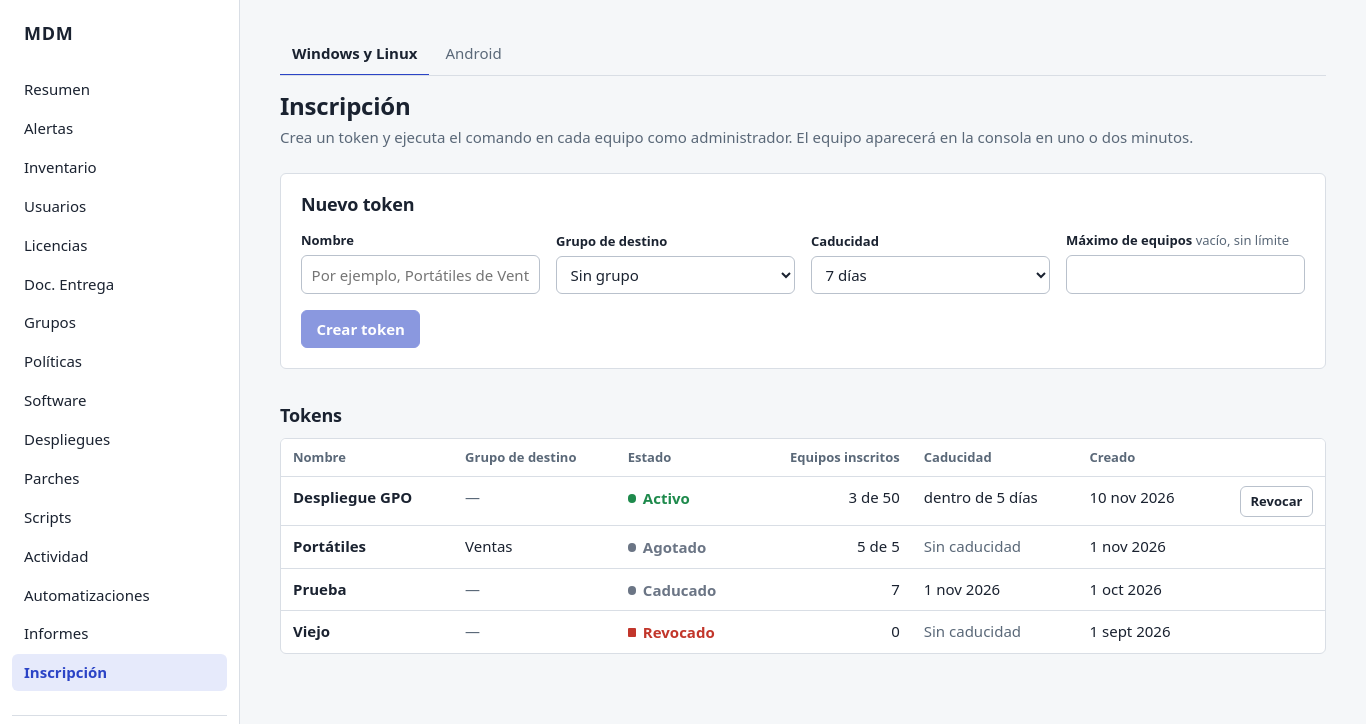
it: Inscripción › crear un token envía nombre, grupo, caducidad y usos
The image size is (1366, 724).
In the field labelled "Nombre": (420, 275) [301,256,540,294], type "Oficina Girona"
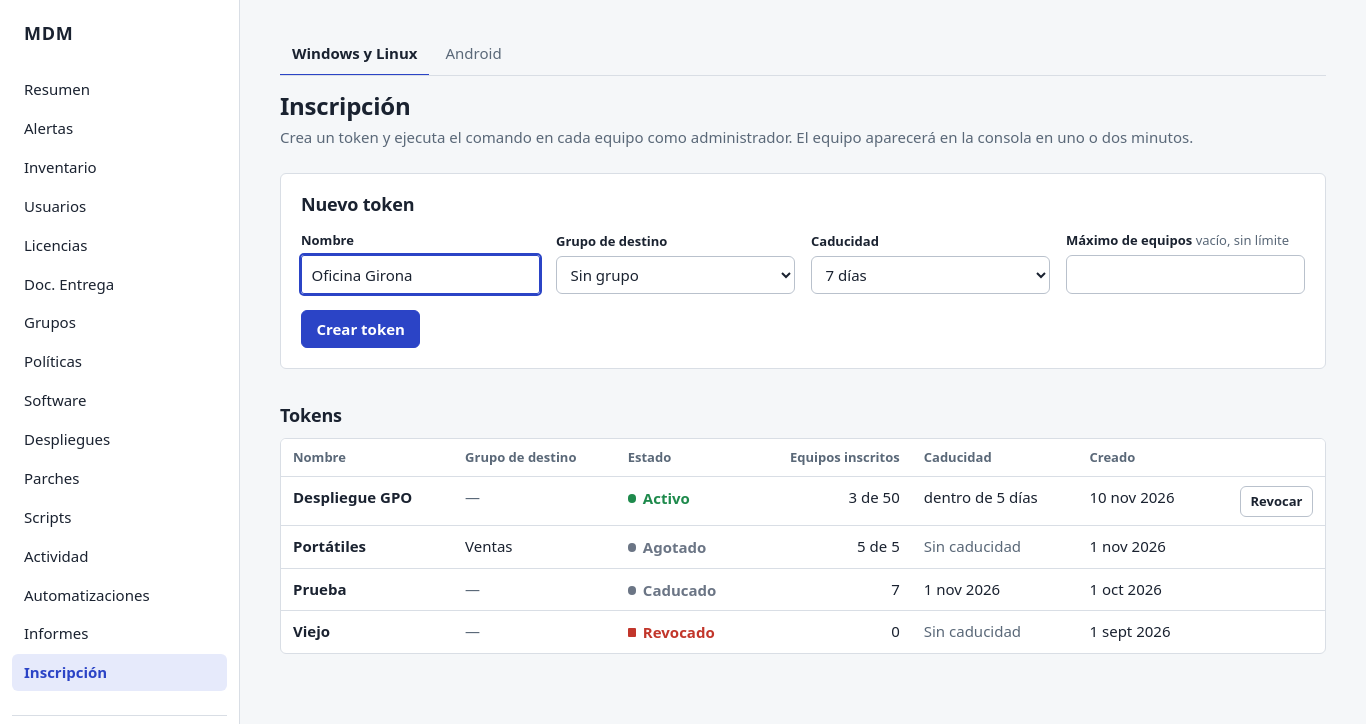
Select "Ventas" in the dropdown labelled "Grupo de destino": (676, 275) [556,256,795,294]
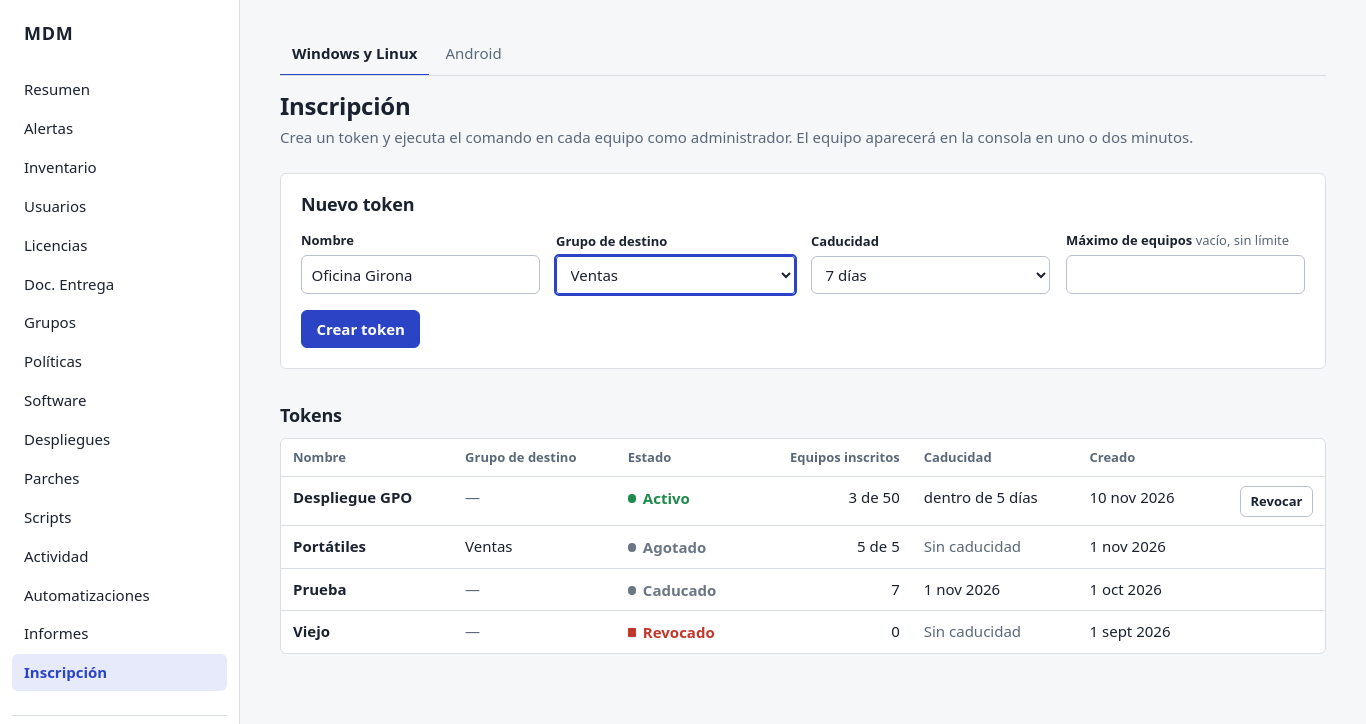
Select "30 días" in the dropdown labelled "Caducidad": (930, 275) [811,256,1050,294]
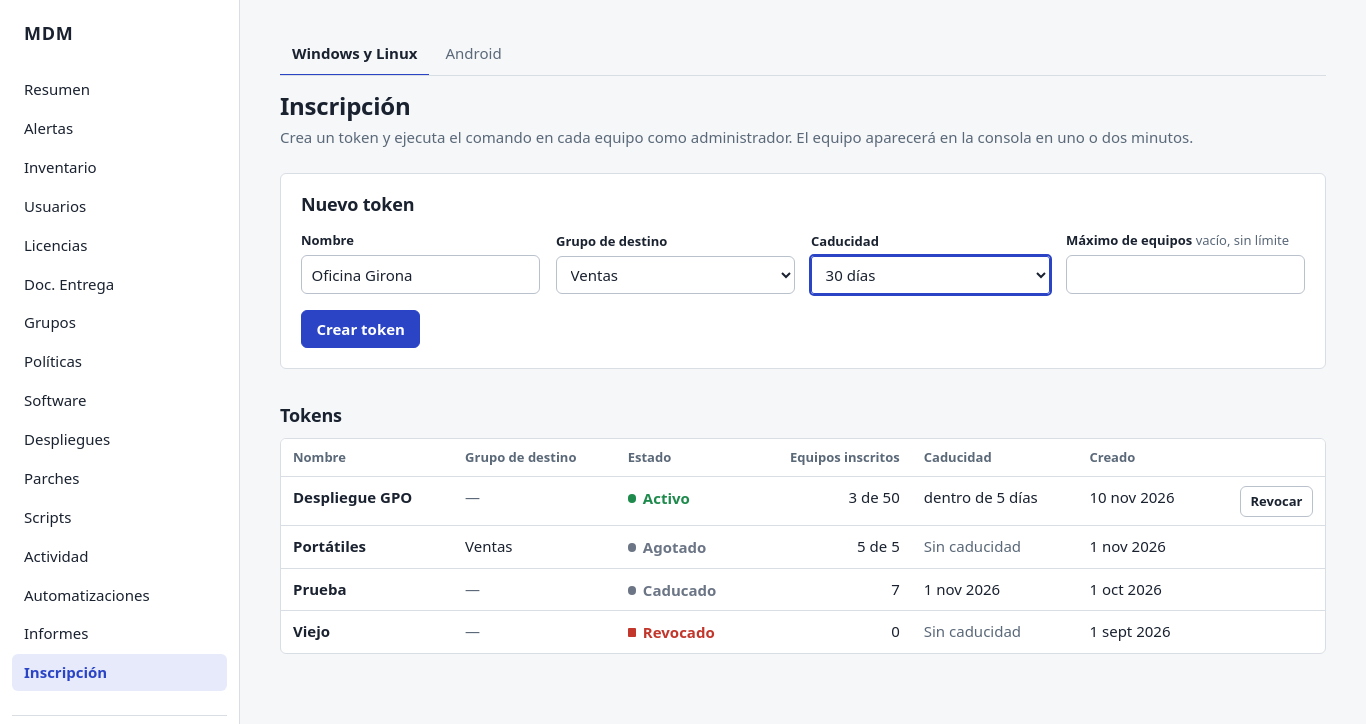
In the number field labelled "Máximo de equipos vacío, sin límite": (1186, 275) [1066,256,1305,294], type "40"
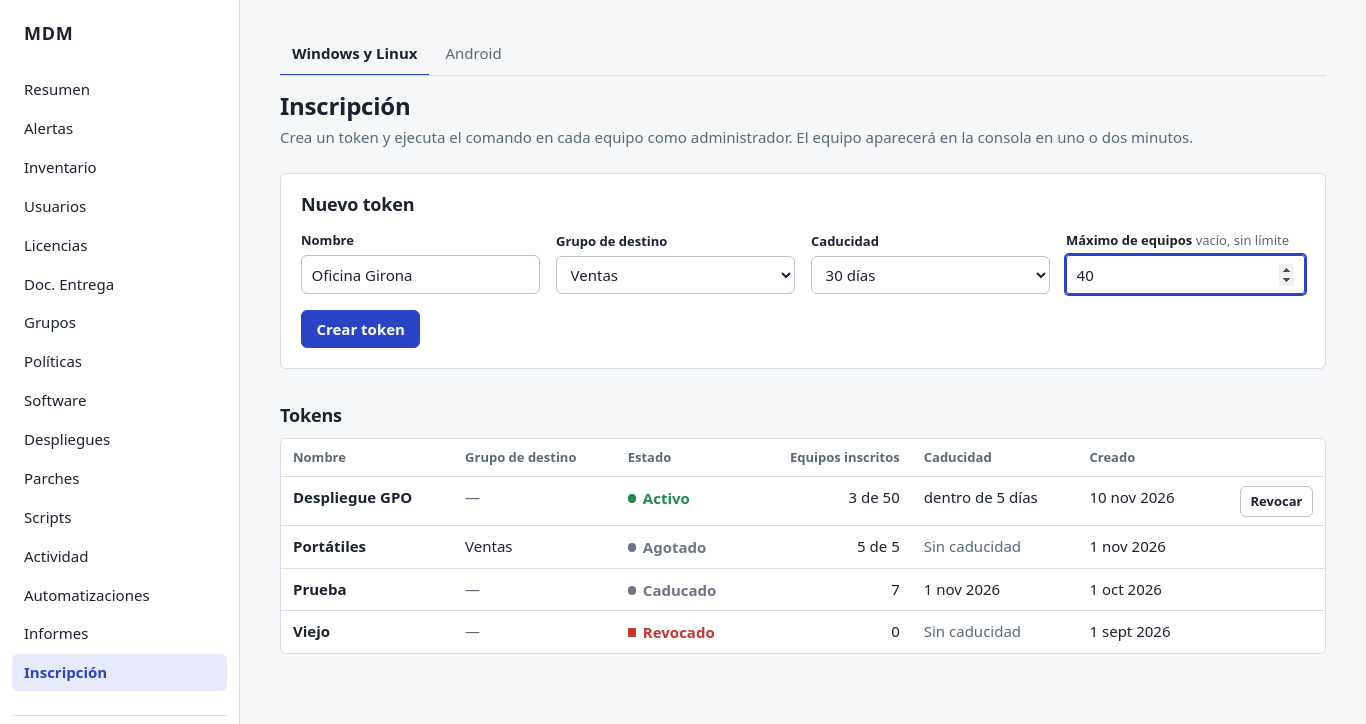
Click the button "Crear token": click(361, 329) [301,310,420,348]
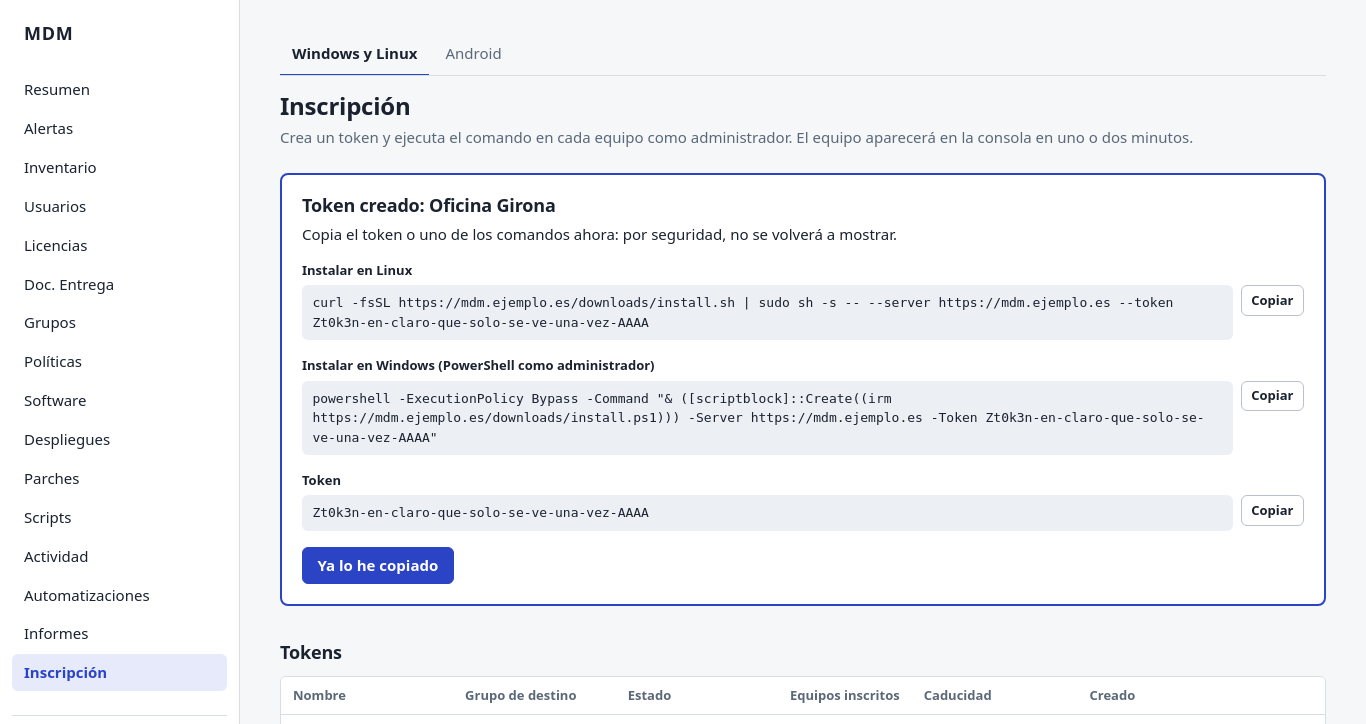
Now the text "Zt0k3n-en-claro-que-solo-se-ve-una-vez-AAAA" is shown, box [302,496,1232,531]
